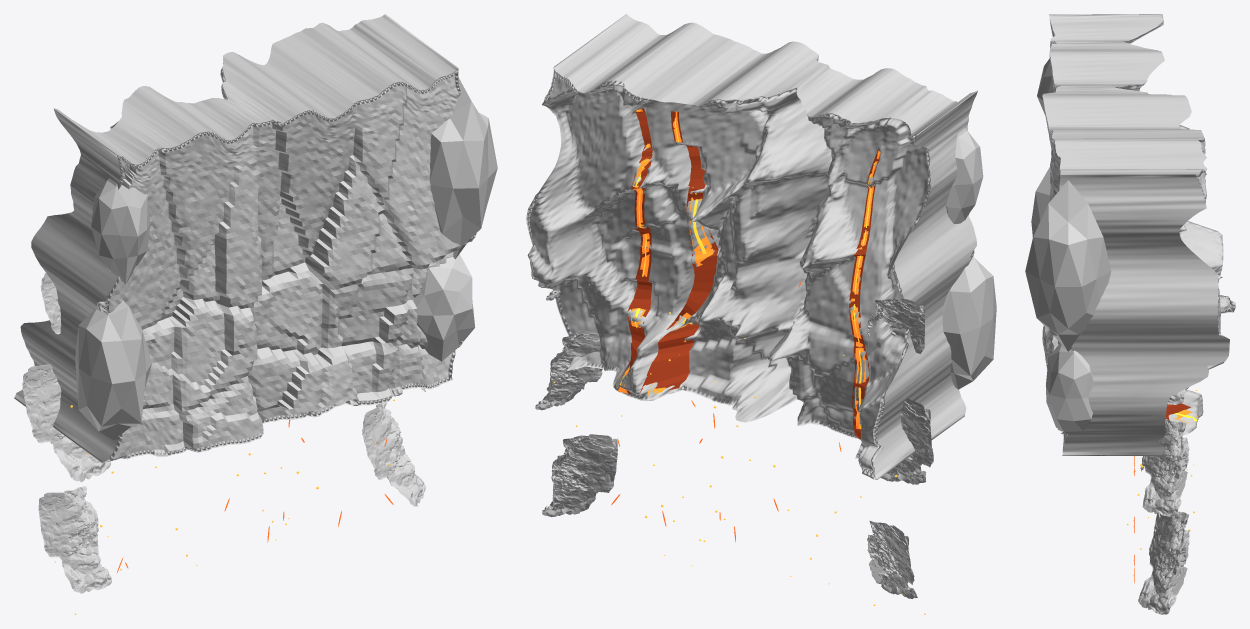
The model's file is b4-v33-magma-rockwall.glb.
3 renders of one model, left to right at view 1: azimuth 30°, elevation 25°; view 2: azimuth 150°, elevation 25°; view 3: azimuth 270°, elevation 25°, orthographic. The views are drawn at different scales.
Visible parts, largest first — view 1: b4:lava-rockwall-v13-light-and-facets, V15 basalt edge buttress 0, V15 basalt edge buttress 1, V28 scanned integrated basalt 00, V15 basalt edge buttress 3, V15 basalt edge buttress 2, V28 scanned integrated basalt 01, V28 scanned integrated basalt 03, V28 scanned integrated basalt 02; view 2: b4:lava-rockwall-v13-light-and-facets, V15 basalt edge buttress 0, V33 magma rim 1-0, V28 scanned integrated basalt 03, V28 scanned integrated basalt 00, V28 scanned integrated basalt 04, V28 scanned integrated basalt 01, V15 basalt edge buttress 2, V33 magma rim 2-0, V28 scanned integrated basalt 02, V33 magma rim 0-0, V33 magma river 0-0 (+2 smaller); view 3: b4:lava-rockwall-v13-light-and-facets, V15 basalt edge buttress 1, V28 scanned integrated basalt 03, V15 basalt edge buttress 3, V28 scanned integrated basalt 04, V15 basalt edge buttress 0, V15 basalt edge buttress 2.
Boxes of the visible parts, x1,y1,x2,y2 form: b4:lava-rockwall-v13-light-and-facets: (14, 14, 476, 462); V15 basalt edge buttress 0: (75, 300, 151, 439); V15 basalt edge buttress 1: (429, 77, 497, 259); V28 scanned integrated basalt 00: (38, 486, 111, 593); V15 basalt edge buttress 3: (414, 254, 475, 361); V15 basalt edge buttress 2: (91, 178, 150, 284); V28 scanned integrated basalt 01: (22, 364, 110, 482); V28 scanned integrated basalt 03: (362, 402, 425, 506); V28 scanned integrated basalt 02: (40, 272, 61, 334); b4:lava-rockwall-v13-light-and-facets: (526, 14, 977, 479); V15 basalt edge buttress 0: (942, 256, 996, 389); V33 magma rim 1-0: (640, 111, 718, 392); V28 scanned integrated basalt 03: (542, 434, 617, 516); V28 scanned integrated basalt 00: (867, 521, 917, 598); V28 scanned integrated basalt 04: (535, 330, 602, 410); V28 scanned integrated basalt 01: (880, 398, 933, 484); V15 basalt edge buttress 2: (946, 128, 983, 223); V33 magma rim 2-0: (615, 108, 652, 394); V28 scanned integrated basalt 02: (867, 298, 924, 353); V33 magma rim 0-0: (849, 150, 881, 439); V33 magma river 0-0: (850, 151, 880, 429); b4:lava-rockwall-v13-light-and-facets: (1042, 14, 1235, 455); V15 basalt edge buttress 1: (1025, 180, 1111, 351); V28 scanned integrated basalt 03: (1138, 511, 1189, 614); V15 basalt edge buttress 3: (1046, 343, 1093, 430); V28 scanned integrated basalt 04: (1142, 419, 1189, 516); V15 basalt edge buttress 0: (1031, 166, 1050, 237); V15 basalt edge buttress 2: (1037, 58, 1053, 117).
Bounding box in the file's own units: 48.57 × 56.74 × 23.78.
